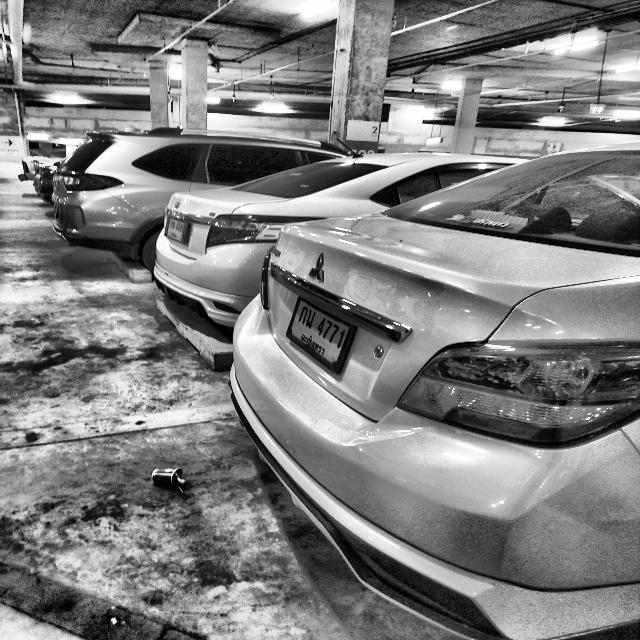license-plate: (289, 300, 349, 365)
